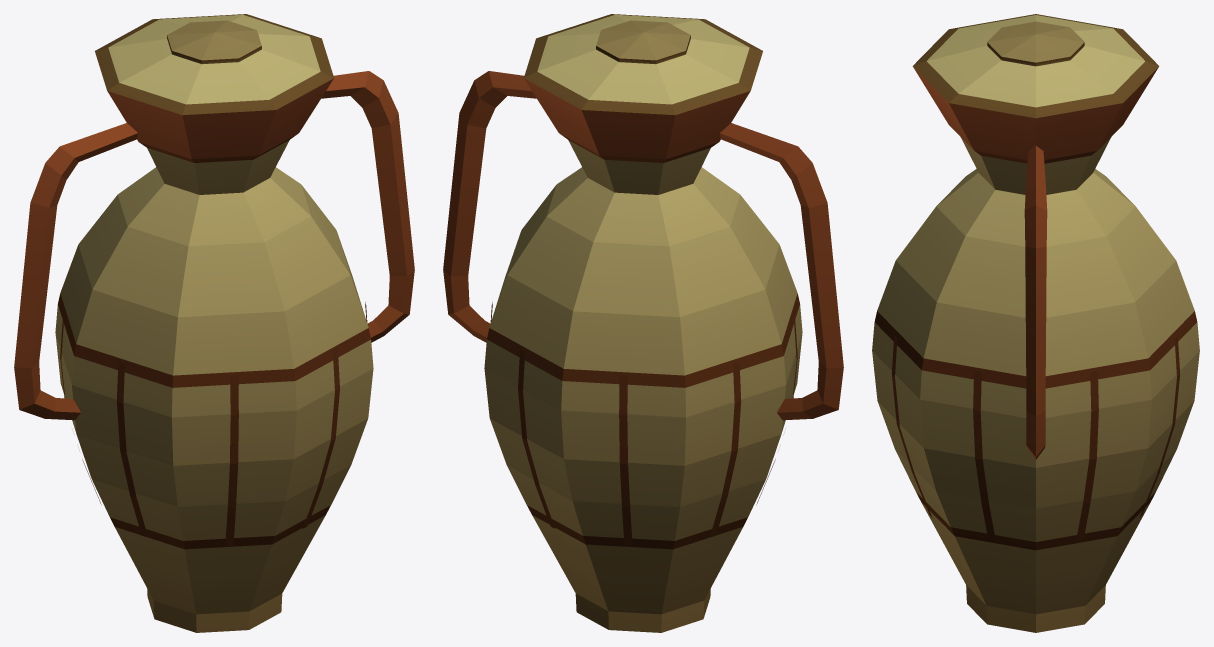
File: egypt_env_vase_03.gltf
3 views of the same model, side by side, from view 1: azimuth 30°, elevation 25°; view 2: azimuth 150°, elevation 25°; view 3: azimuth 270°, elevation 25° (orthographic).
Visible parts, largest first — view 1: egypt_env_vase_03_glb; view 2: egypt_env_vase_03_glb; view 3: egypt_env_vase_03_glb.
Part boxes in pixels (bbox=[...]): egypt_env_vase_03_glb: bbox=[14, 14, 414, 632]; egypt_env_vase_03_glb: bbox=[443, 14, 843, 632]; egypt_env_vase_03_glb: bbox=[872, 14, 1199, 632].
Size of what is drawn, in the model's own units: 1.68 by 2.28 by 1.19.
1 material, 1 textured.
